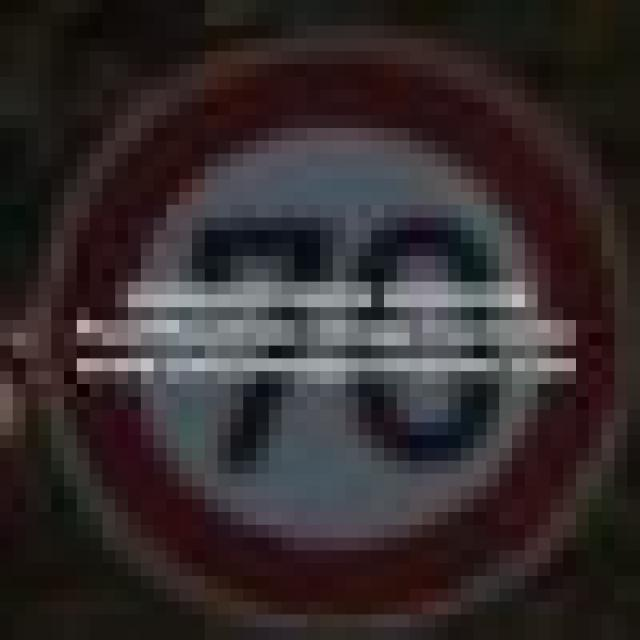SPEED_LIMIT_70: (38, 39, 614, 602)
